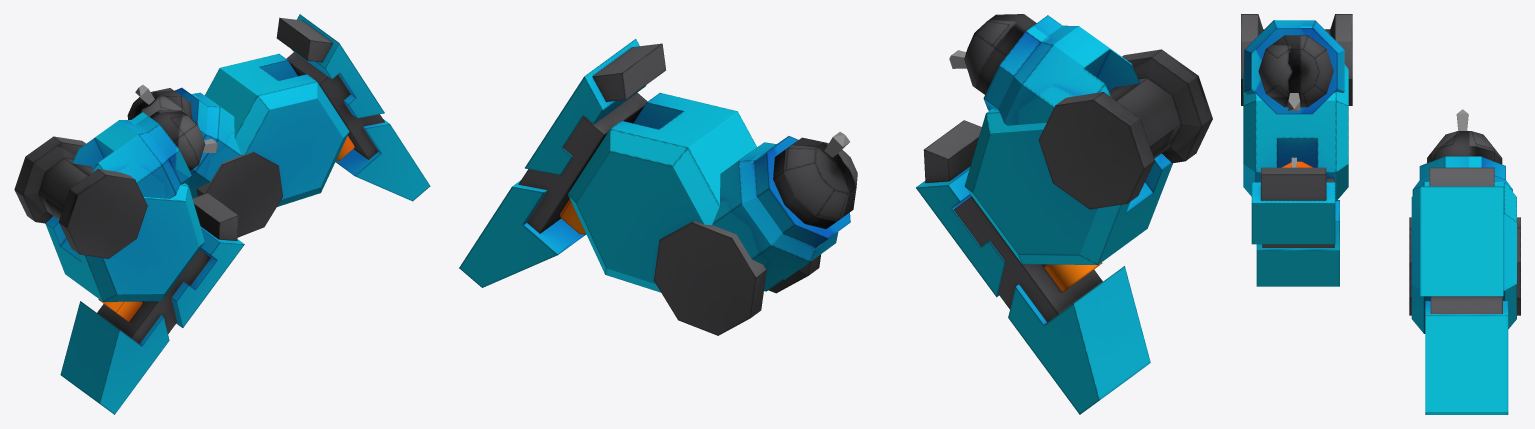
Rendered from Bottom_Running12.obj.
The picture shows the model from 3 angles, left to right: view 1: azimuth 30°, elevation 25°; view 2: azimuth 150°, elevation 25°; view 3: azimuth 270°, elevation 25°; orthographic projection. The views are drawn at different scales.
Visible parts, largest first — view 1: Object013, Object010, Object014, Object011, Object012, Object009; view 2: Object013, Object010, Object014, Object011, Object009, Object012; view 3: Object011, Object014, Object013, Object012, Object010, Object009.
Part boxes in pixels (x1,y1,x2,y2): Object013: (14,136,204,301); Object010: (196,54,349,237); Object014: (60,193,244,414); Object011: (276,14,430,201); Object012: (72,109,205,198); Object009: (127,87,241,198); Object013: (964,49,1212,264); Object010: (568,93,821,335); Object014: (916,120,1150,414); Object011: (459,39,665,287); Object009: (712,136,857,291); Object012: (964,14,1140,125); Object011: (1420,167,1508,414); Object014: (1251,161,1339,286); Object013: (1241,14,1352,201); Object012: (1244,20,1344,114); Object010: (1409,182,1520,333); Object009: (1412,131,1512,195).
Size of the model in its own units: 187 by 107 by 94.84.
